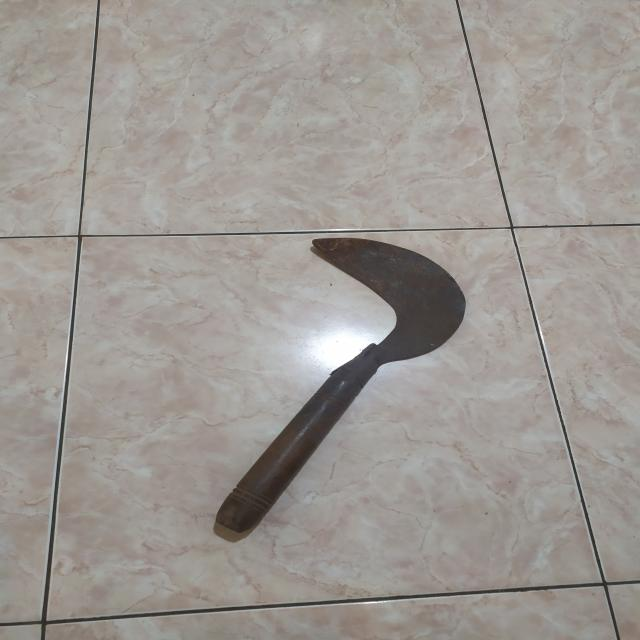Celurit: (216, 235, 464, 536)
